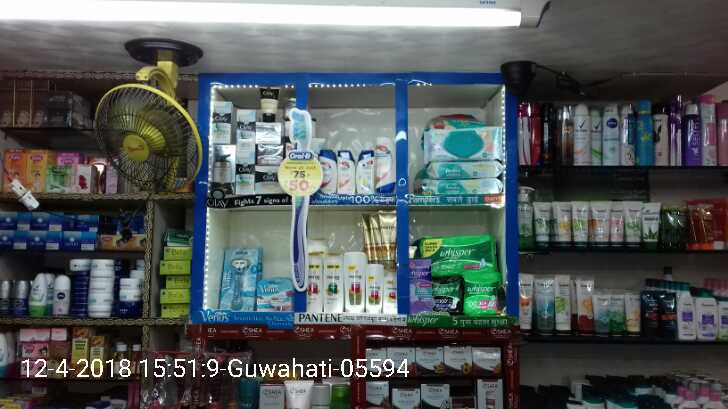venus: (221, 249, 257, 311), (258, 277, 293, 312)
